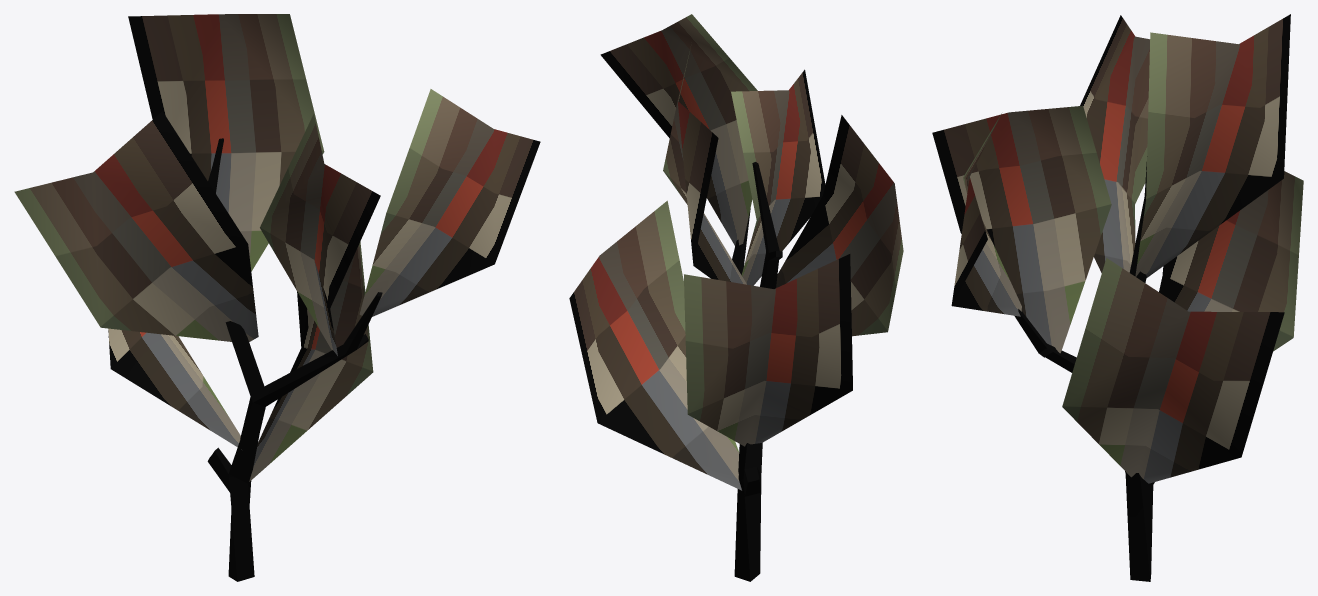
The model's file is SM_Tree_Dead_03_LOD_01.fbx.
3 renders of one model, left to right at view 1: azimuth 30°, elevation 25°; view 2: azimuth 150°, elevation 25°; view 3: azimuth 270°, elevation 25°, orthographic. The views are drawn at different scales.
Parts seen in each view (by area): view 1: SM_Tree_Dead_03_LOD_01; view 2: SM_Tree_Dead_03_LOD_01; view 3: SM_Tree_Dead_03_LOD_01.
Boxes of the visible parts, <box> form: SM_Tree_Dead_03_LOD_01: <box>14,14,540,581</box>; SM_Tree_Dead_03_LOD_01: <box>569,14,903,581</box>; SM_Tree_Dead_03_LOD_01: <box>932,14,1303,581</box>.
Size of the model in its own units: 99.04 by 123 by 72.31.
Materials: 1 (1 with a texture image).
